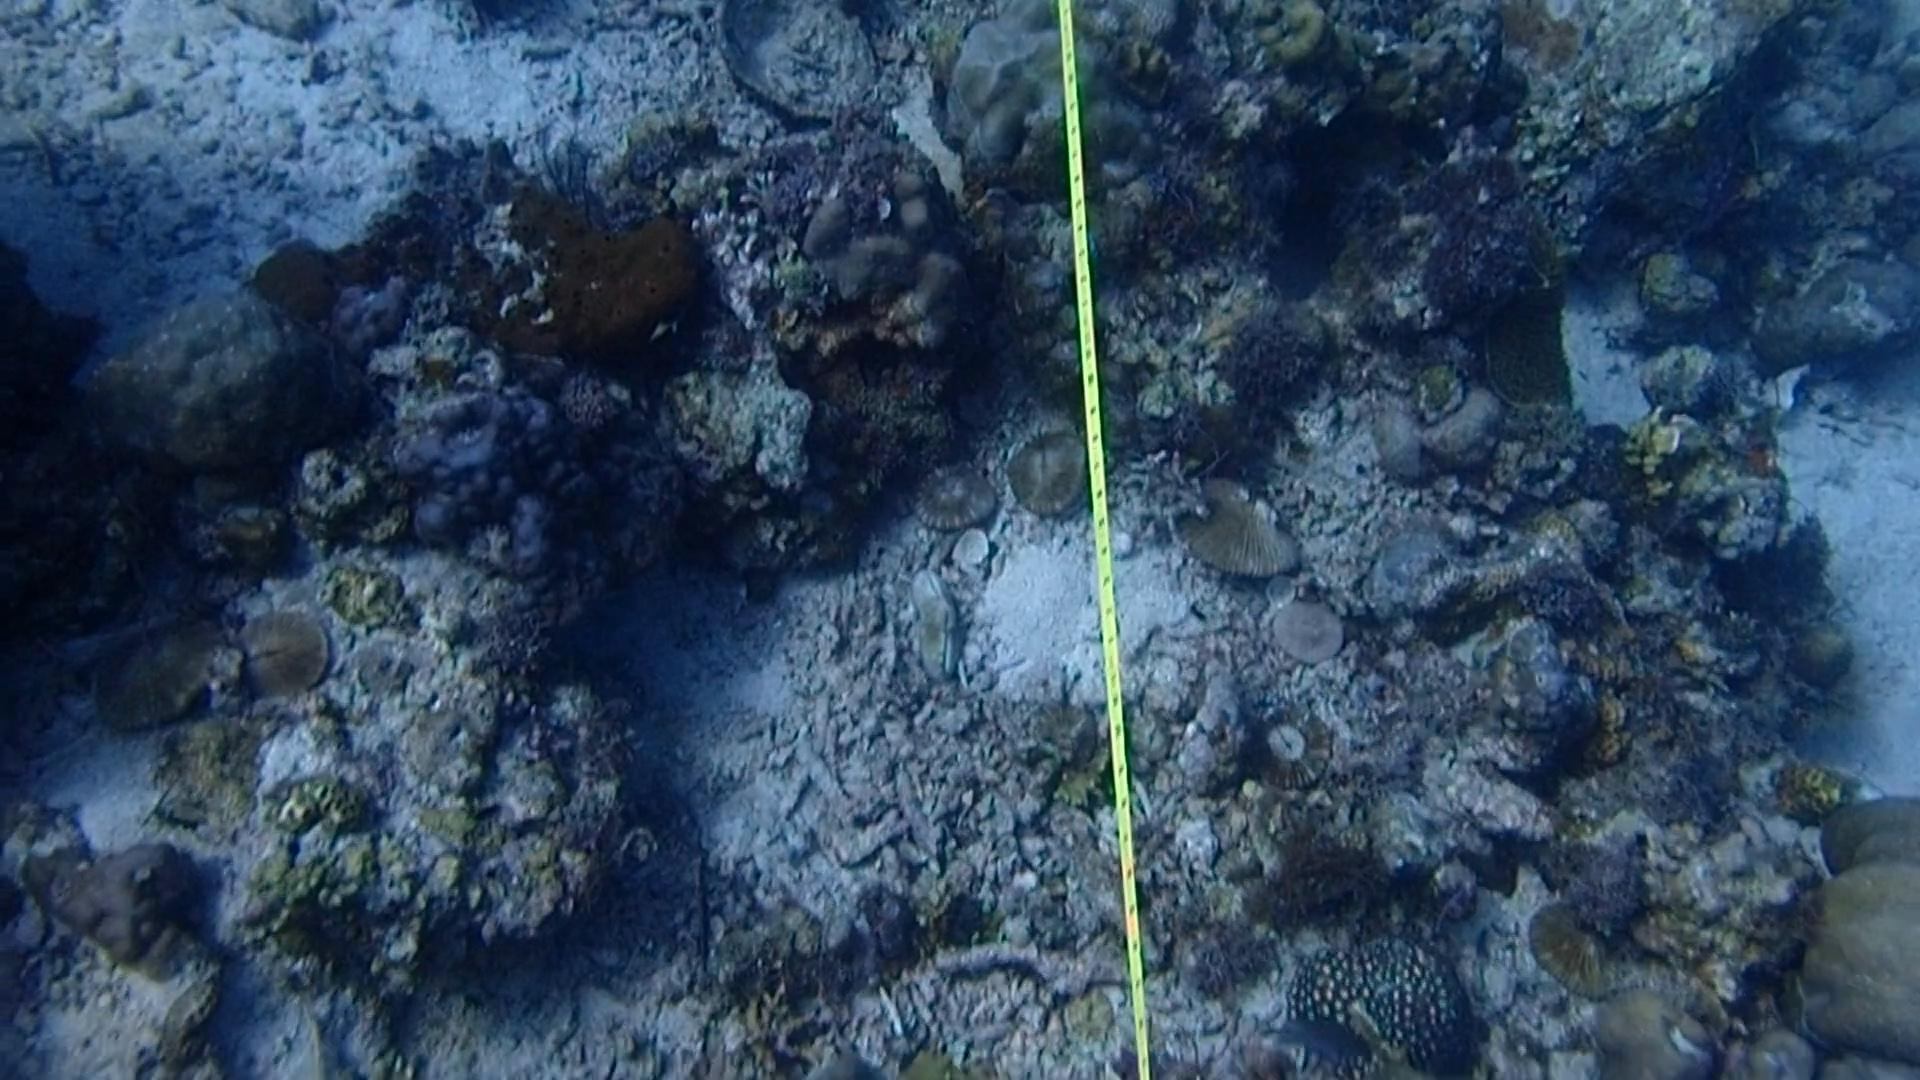Light Fish: (1278, 998, 1369, 1076)
